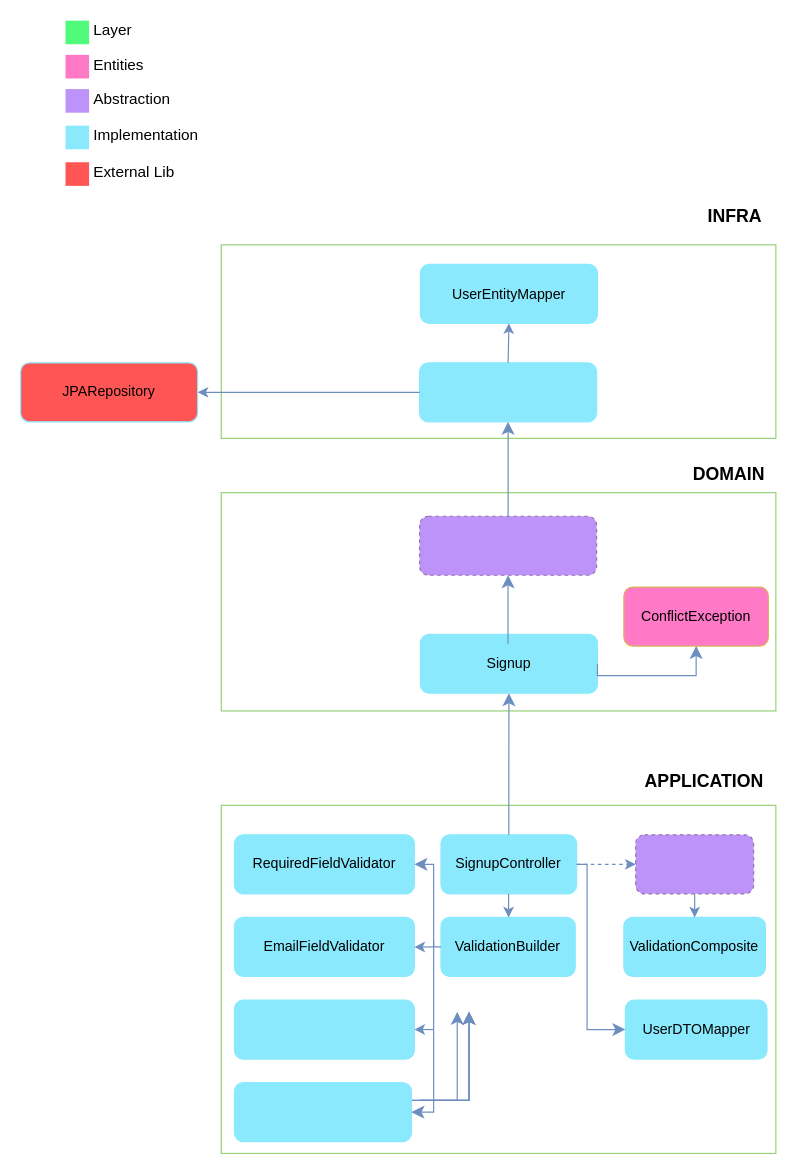
Some shapes in this 796 by 1174 pixel diagram are drawn without their labels. The shapes that lost their labels are listed below. From the top down, each one's box as (x1, y1, x2, y2) in pixels, then its label:
(418, 362, 597, 422): UserAdapter
(418, 515, 597, 575): IUserAdapter
(634, 834, 754, 894): Controller
(233, 999, 414, 1059): PasswordFieldValidator
(233, 1081, 411, 1142): UsernameFieldValidator
